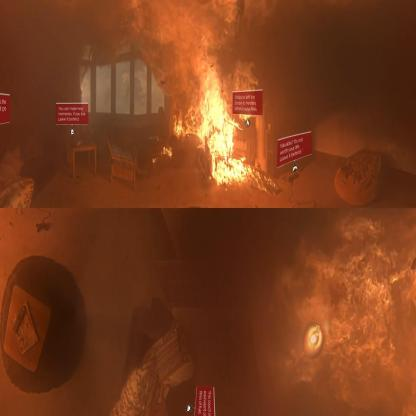fire: (322, 217, 416, 416), (169, 62, 276, 197), (161, 142, 174, 160), (152, 157, 157, 163)
